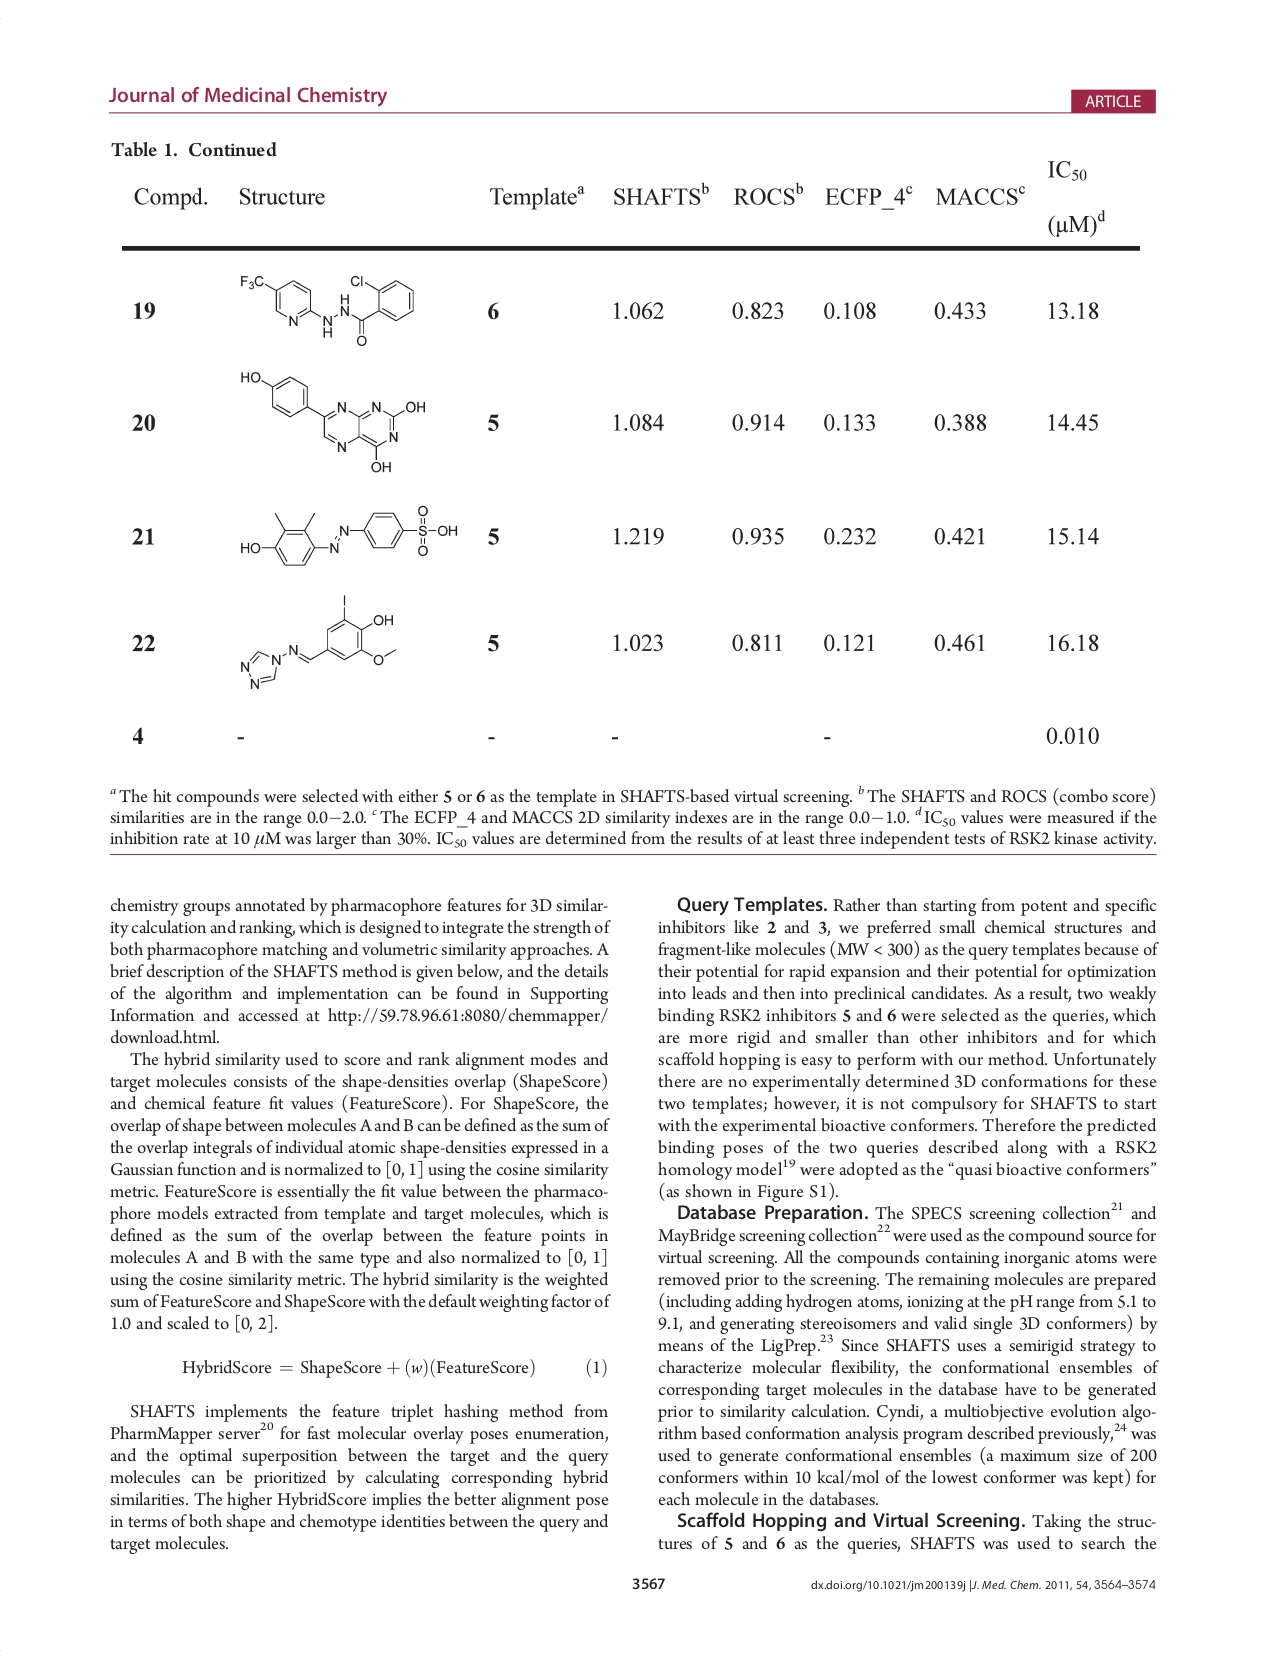exist_molecular: (235, 360, 430, 477), (238, 495, 465, 571), (234, 590, 400, 692), (233, 265, 416, 347)
